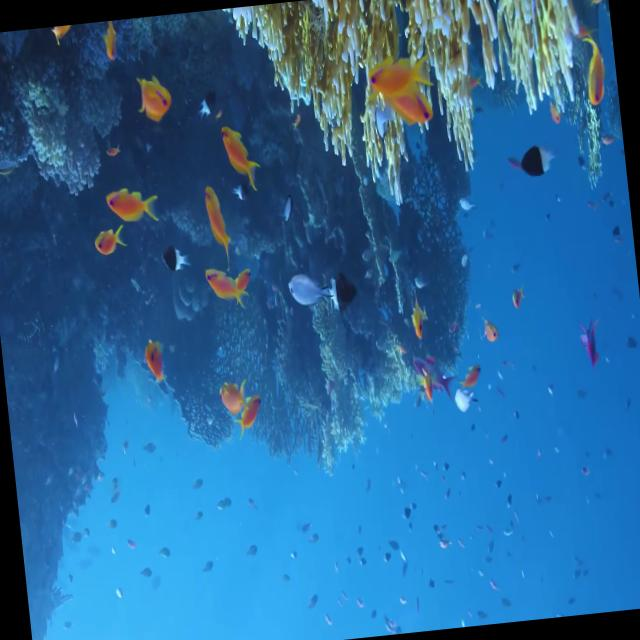fish: (562, 26, 616, 128), (215, 114, 267, 200), (214, 372, 268, 446), (129, 62, 176, 136), (199, 179, 236, 266), (102, 187, 168, 234), (202, 263, 252, 321), (378, 56, 429, 111), (318, 266, 362, 324), (87, 220, 134, 272), (508, 140, 562, 182), (136, 332, 170, 389), (400, 294, 432, 352), (289, 276, 334, 316), (391, 95, 438, 132), (95, 19, 124, 76), (456, 352, 490, 398), (473, 308, 508, 348), (160, 240, 195, 276), (44, 25, 74, 64), (413, 366, 440, 409)
